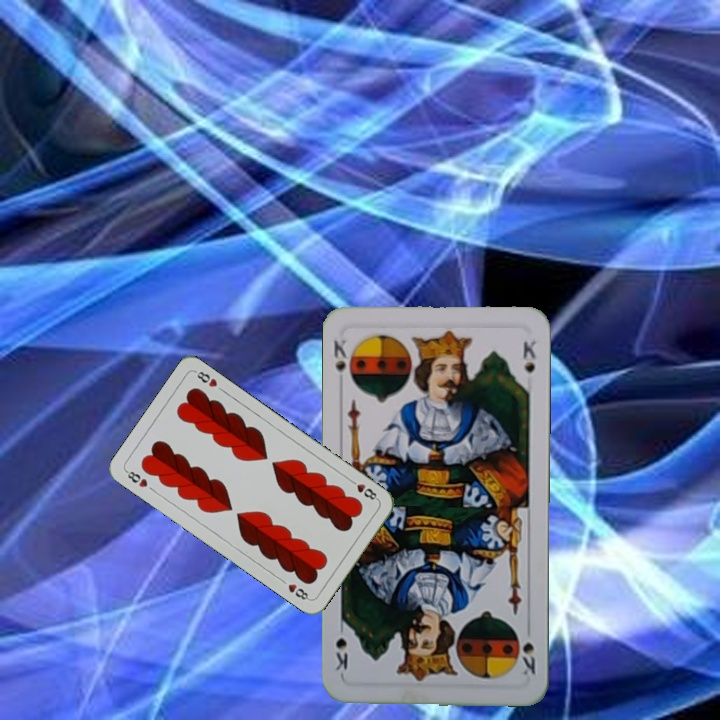H8: (345, 475, 381, 503), (121, 466, 150, 490)
SK: (329, 335, 356, 388), (518, 621, 538, 678)
